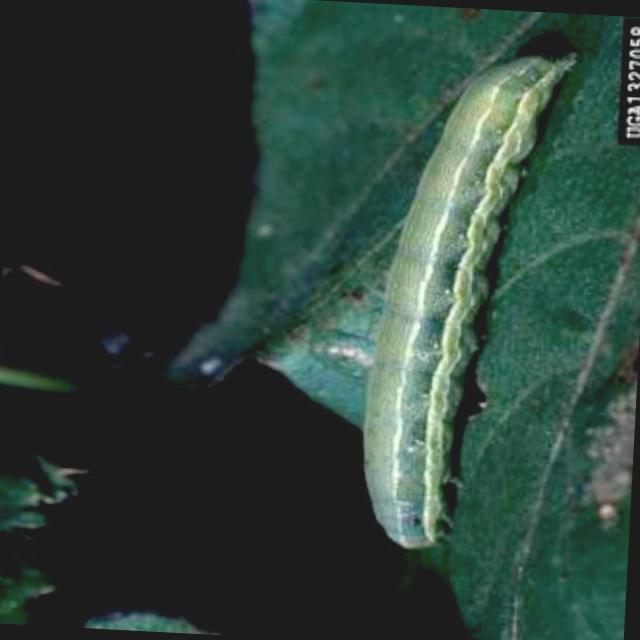Beet armyworm: (276, 20, 612, 593)
